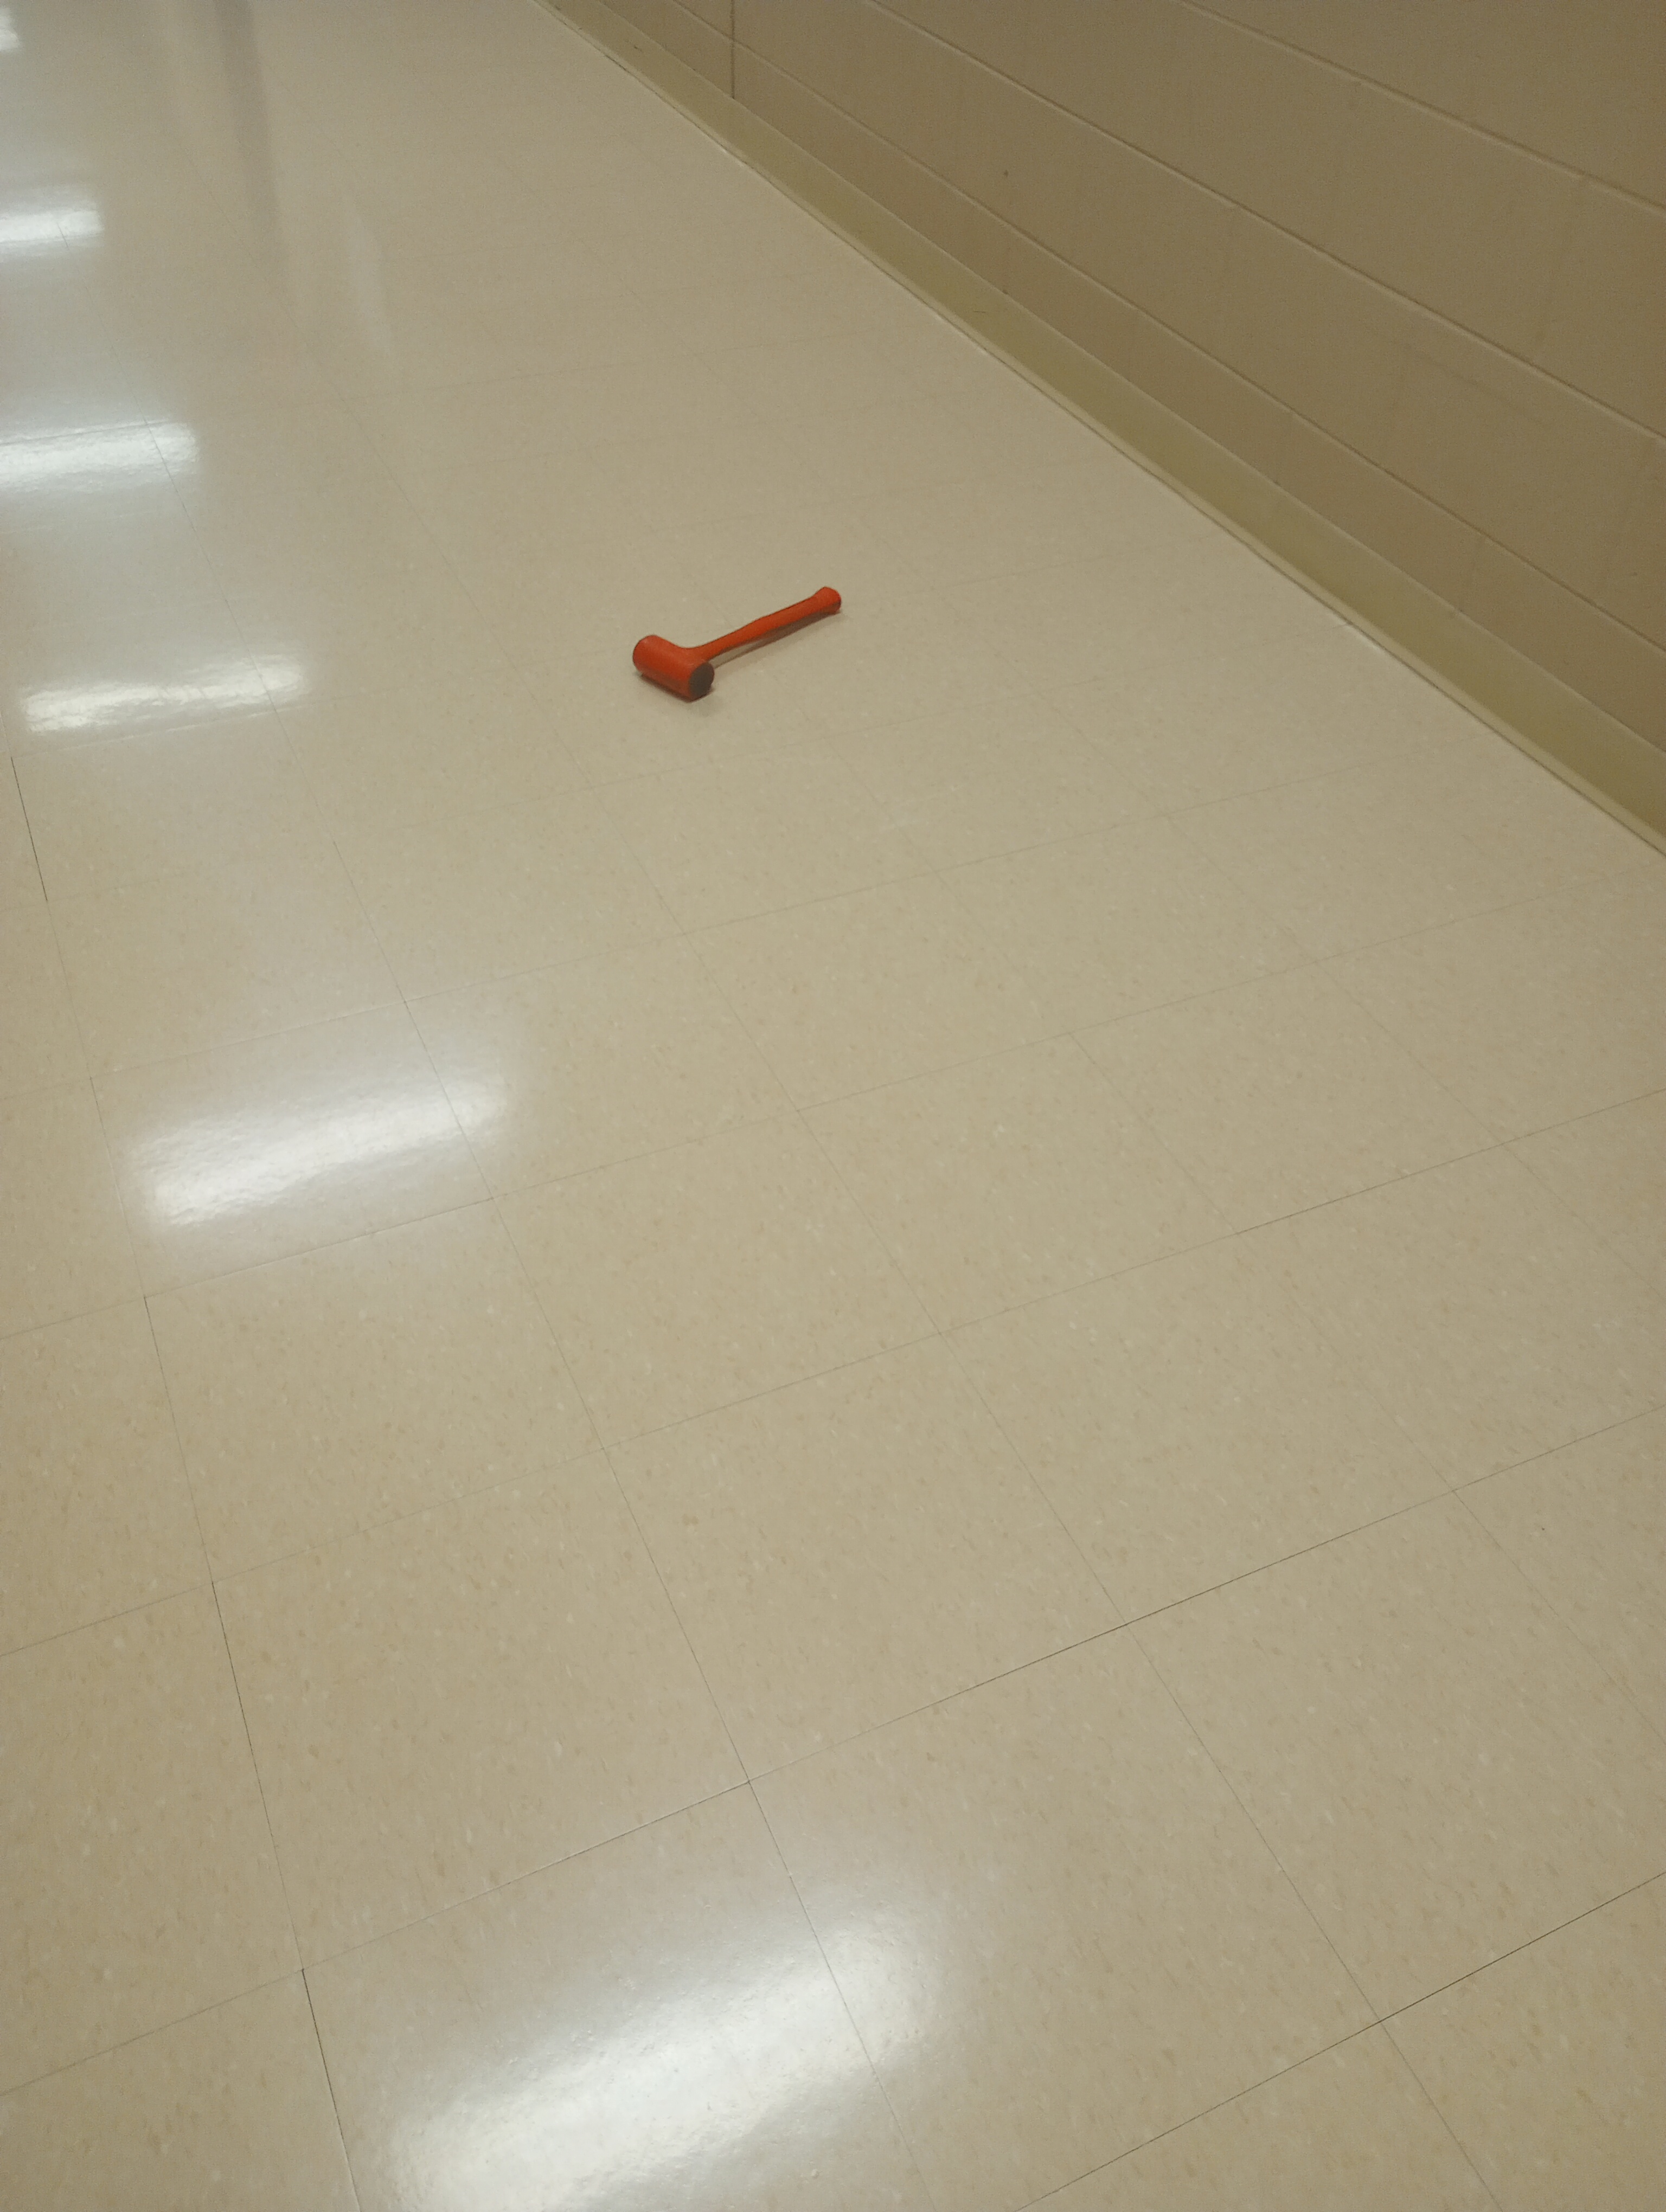bottle: (628, 577, 843, 713)
